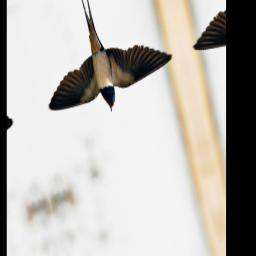Swallow: (23, 0, 180, 135)
